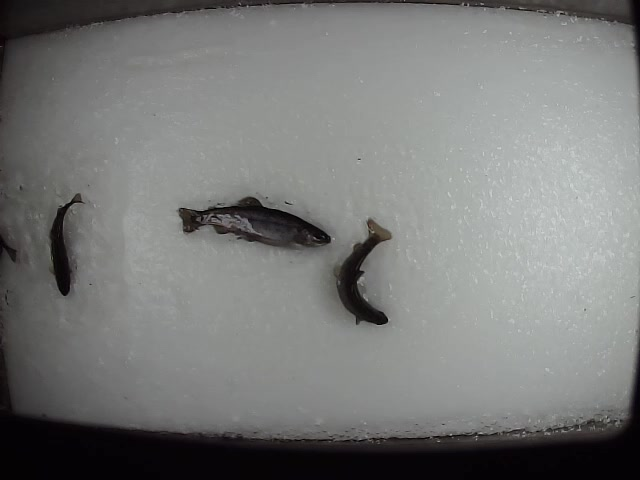fish: (175, 193, 332, 248), (331, 216, 393, 329), (47, 190, 85, 298)
